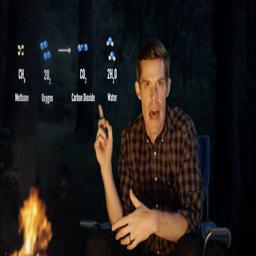fire: (11, 187, 53, 256)
